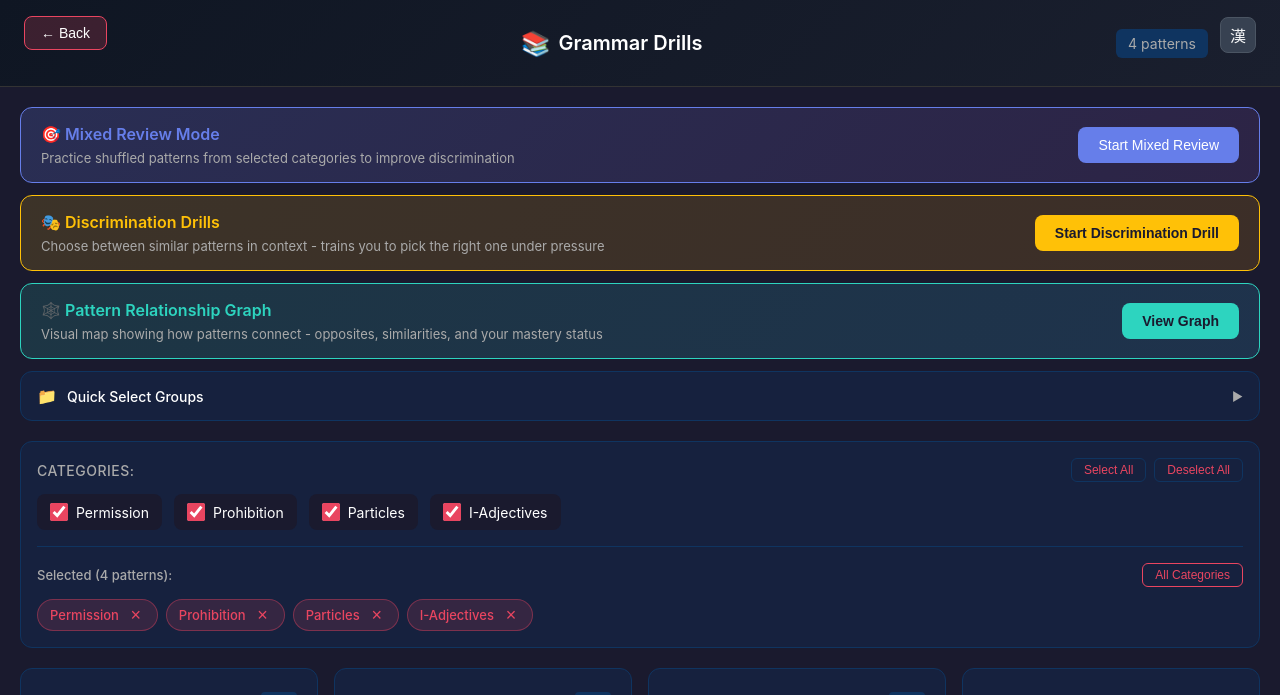
Test: GrammarMode Category Filter › should deselect all categories when Deselect All is clicked
Click the button "Deselect All". click: (1199, 470)
box: [1154, 458, 1243, 482]
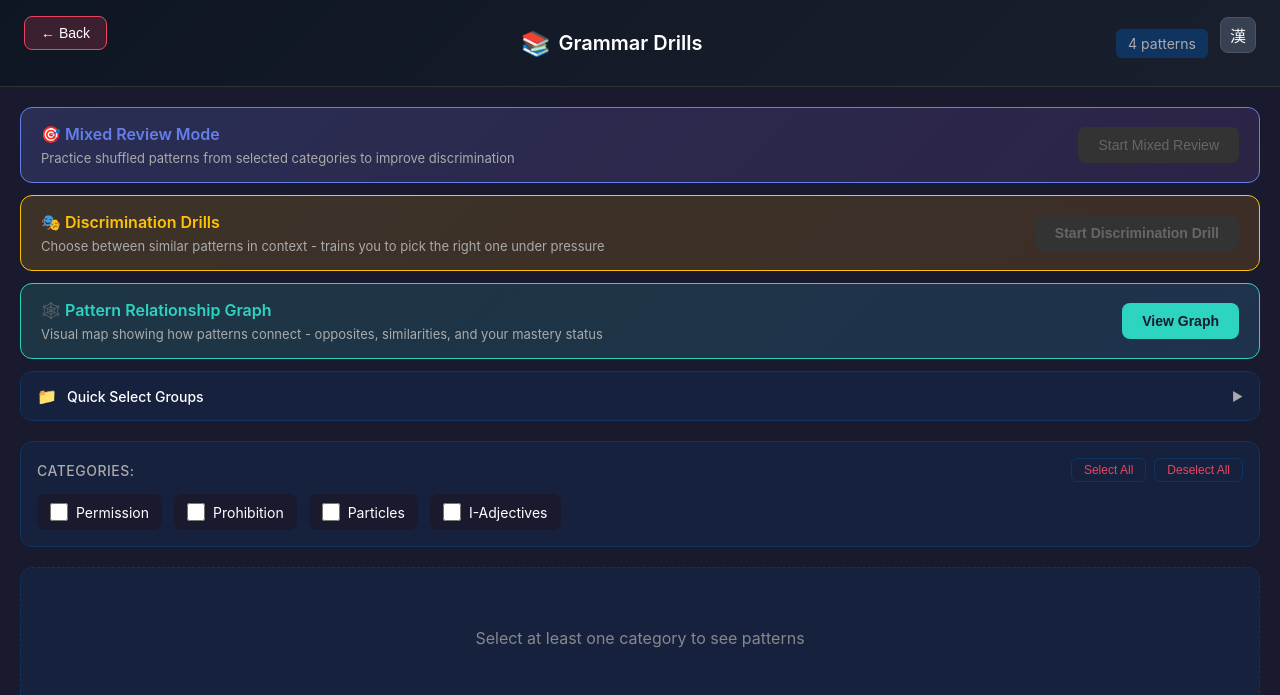
Expected: the checkbox labelled "Permission" is not checked, [50, 503, 68, 521]
Expected: the checkbox labelled "Prohibition" is not checked, [187, 503, 205, 521]
Expected: the checkbox labelled "Particles" is not checked, [322, 503, 340, 521]
